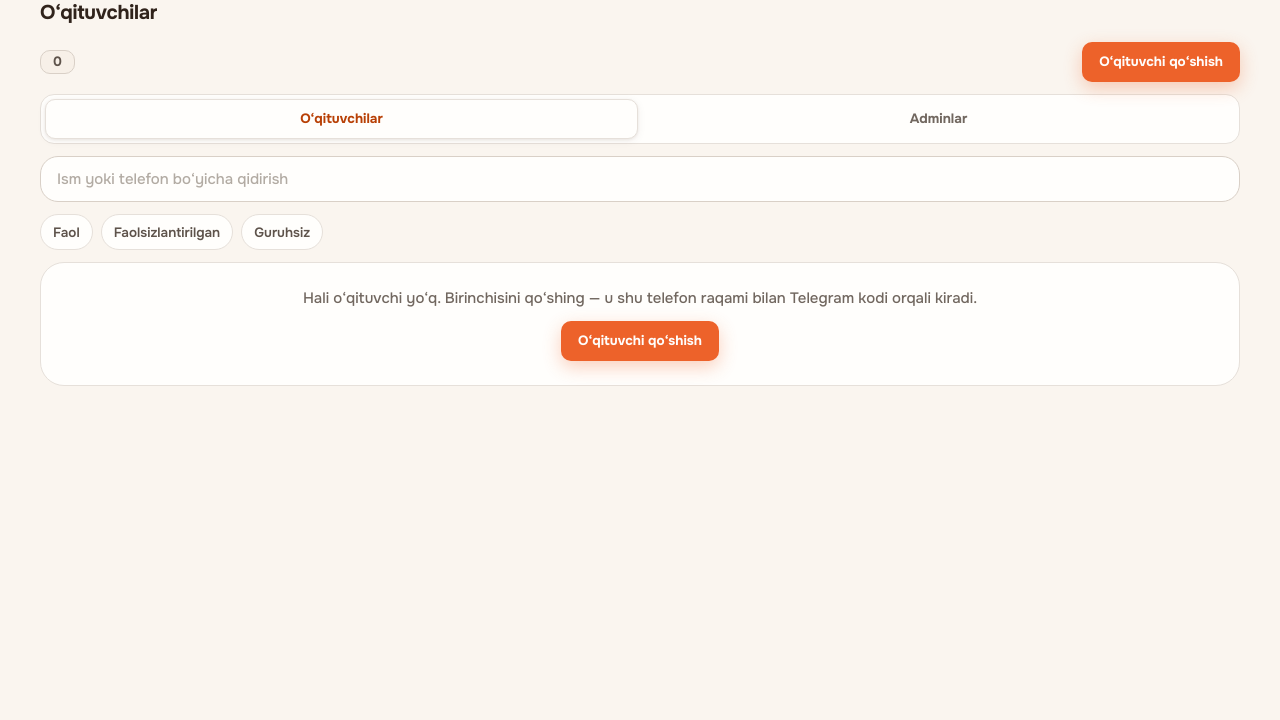
Scenario: adding the first teacher on a fresh install › shows the new row at once, without a reload
expect the text "Hali o‘qituvchi yo‘q. Birinchisini qo‘shing — u shu telefon raqami bilan Telegram kodi orqali kiradi." is shown: met, box x1=303 y1=288 x2=977 y2=308
Click the 1st button "O‘qituvchi qo‘shish" at (1161, 62), box x1=1082 y1=42 x2=1240 y2=82
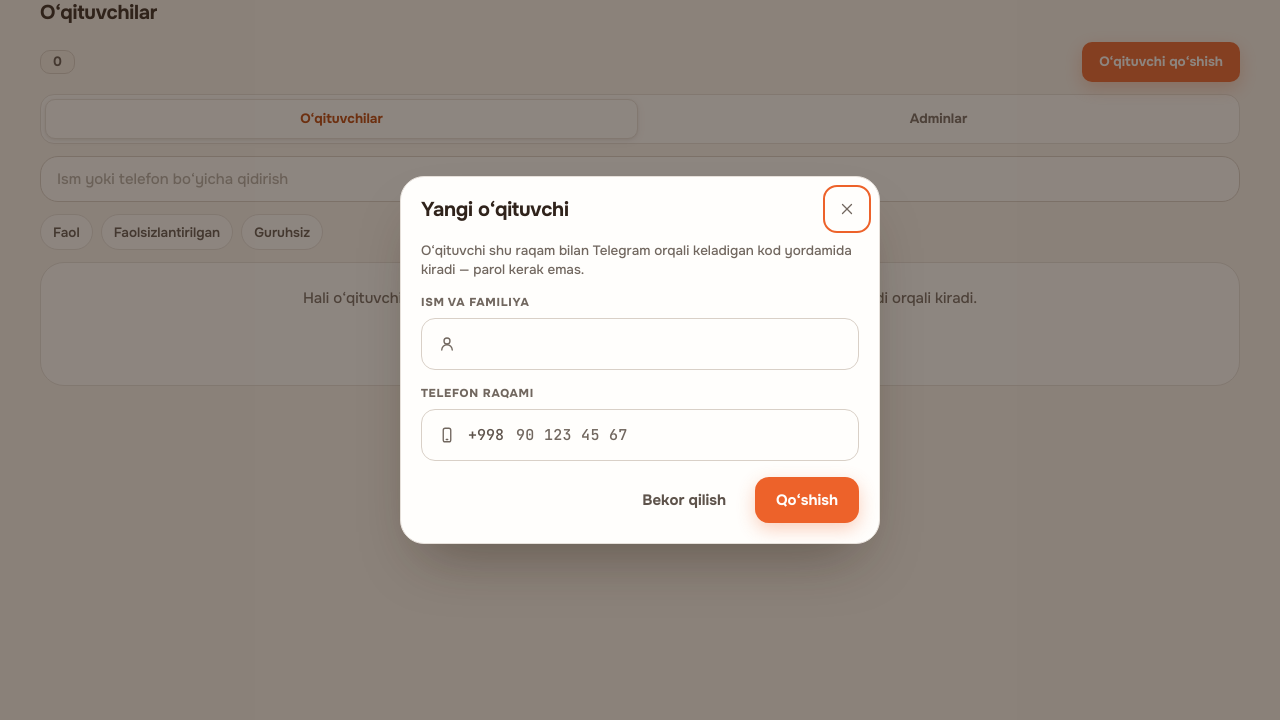
Type "Nodira Tosheva" into the field labelled "Ism va familiya" at (655, 344), box x1=468 y1=320 x2=842 y2=368
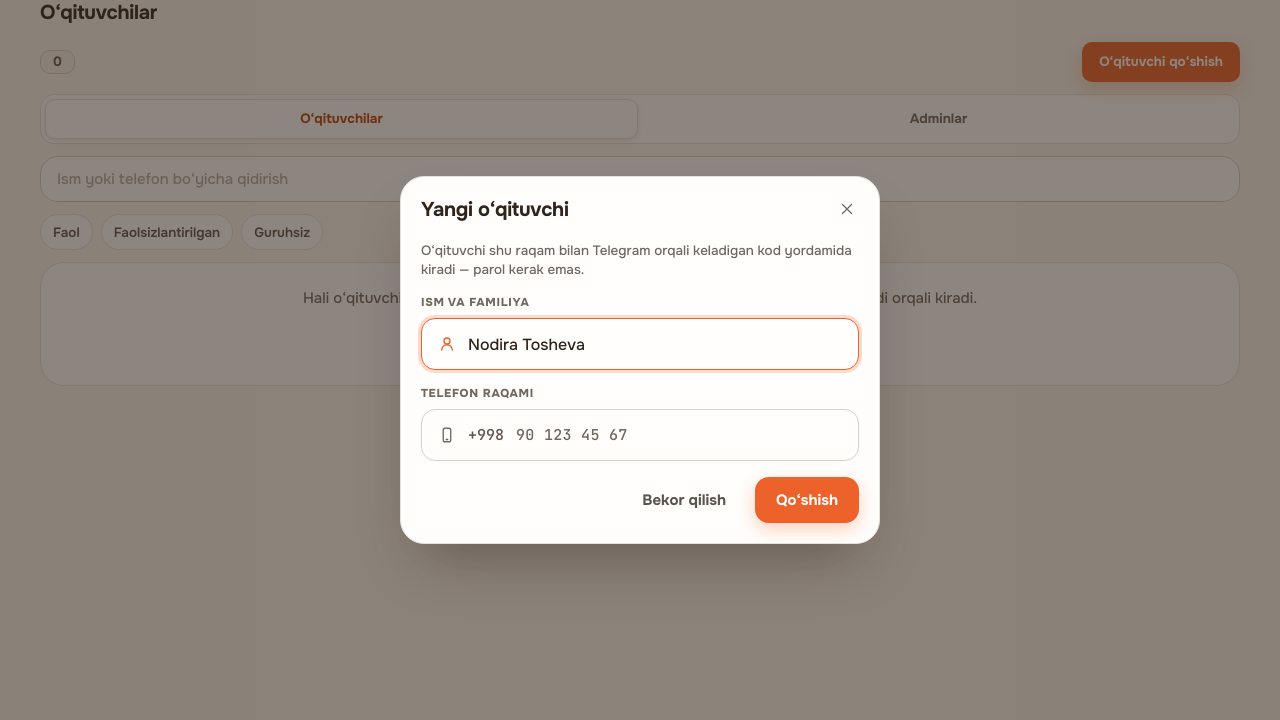
Type "901234567" into the field labelled "Telefon raqami" at (679, 435), box x1=516 y1=411 x2=842 y2=459
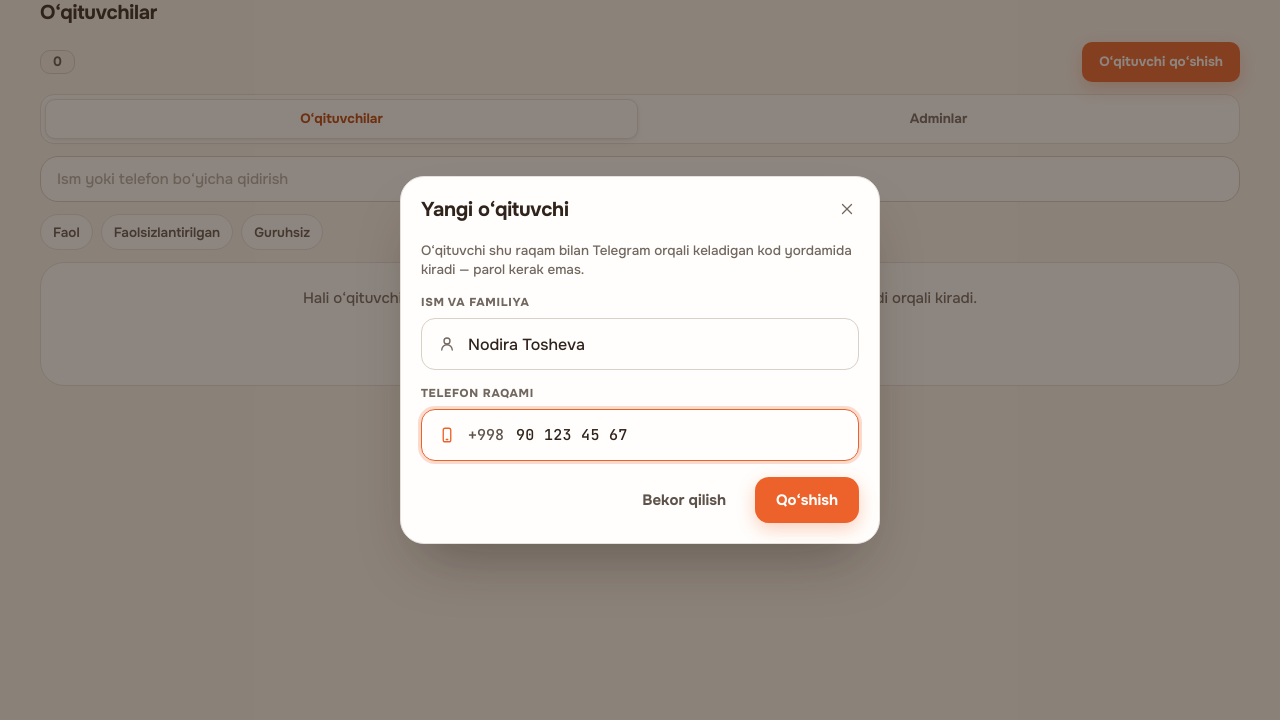
Click the button "Qo‘shish" at (807, 500), box x1=755 y1=477 x2=859 y2=523
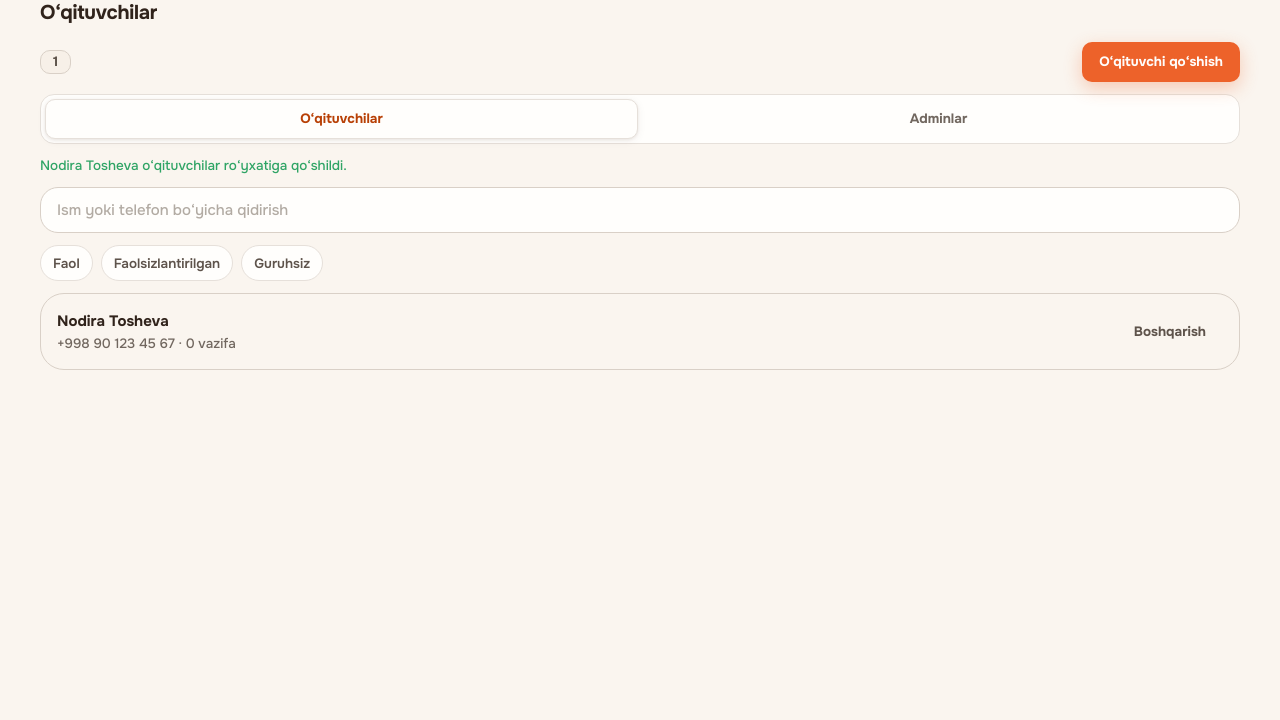
expect the dialog is gone: met
expect the text "Nodira Tosheva" is shown: met, box x1=57 y1=310 x2=169 y2=332
expect the text "+998 90 123 45 67 · 0 vazifa" is shown: met, box x1=57 y1=335 x2=236 y2=352
